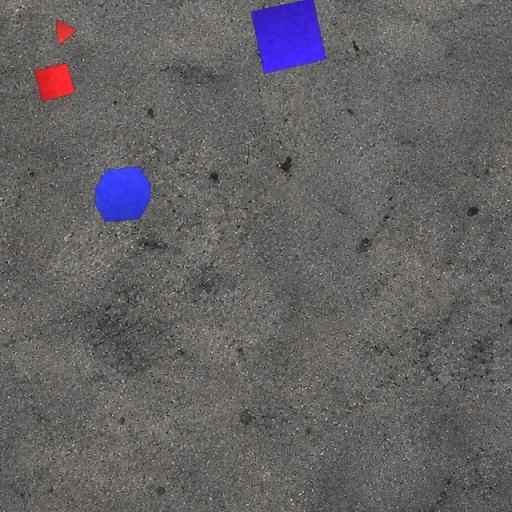BLUE_SQUARE: (250, 0, 326, 74)
RED_SQUARE: (34, 62, 76, 102)
